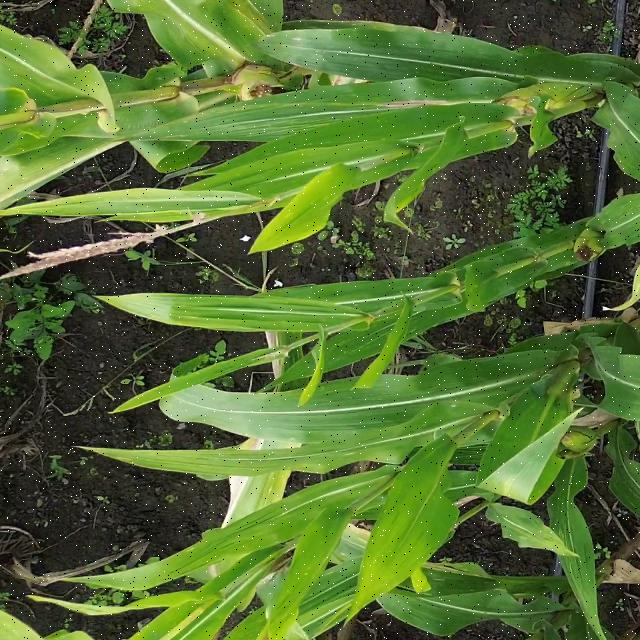gray-leaf-spot: (262, 30, 339, 60), (612, 454, 640, 508), (606, 197, 640, 232), (338, 532, 374, 561)
northern-leaf-blight: (359, 93, 470, 117)
